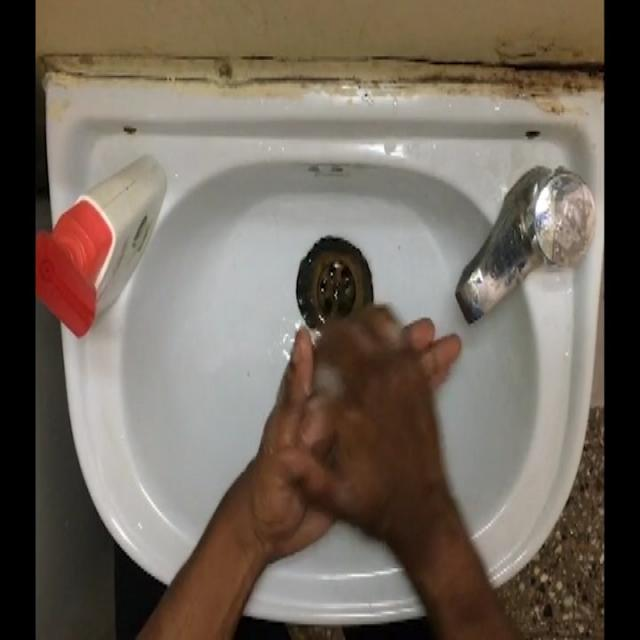step_5: (266, 295, 469, 570)
